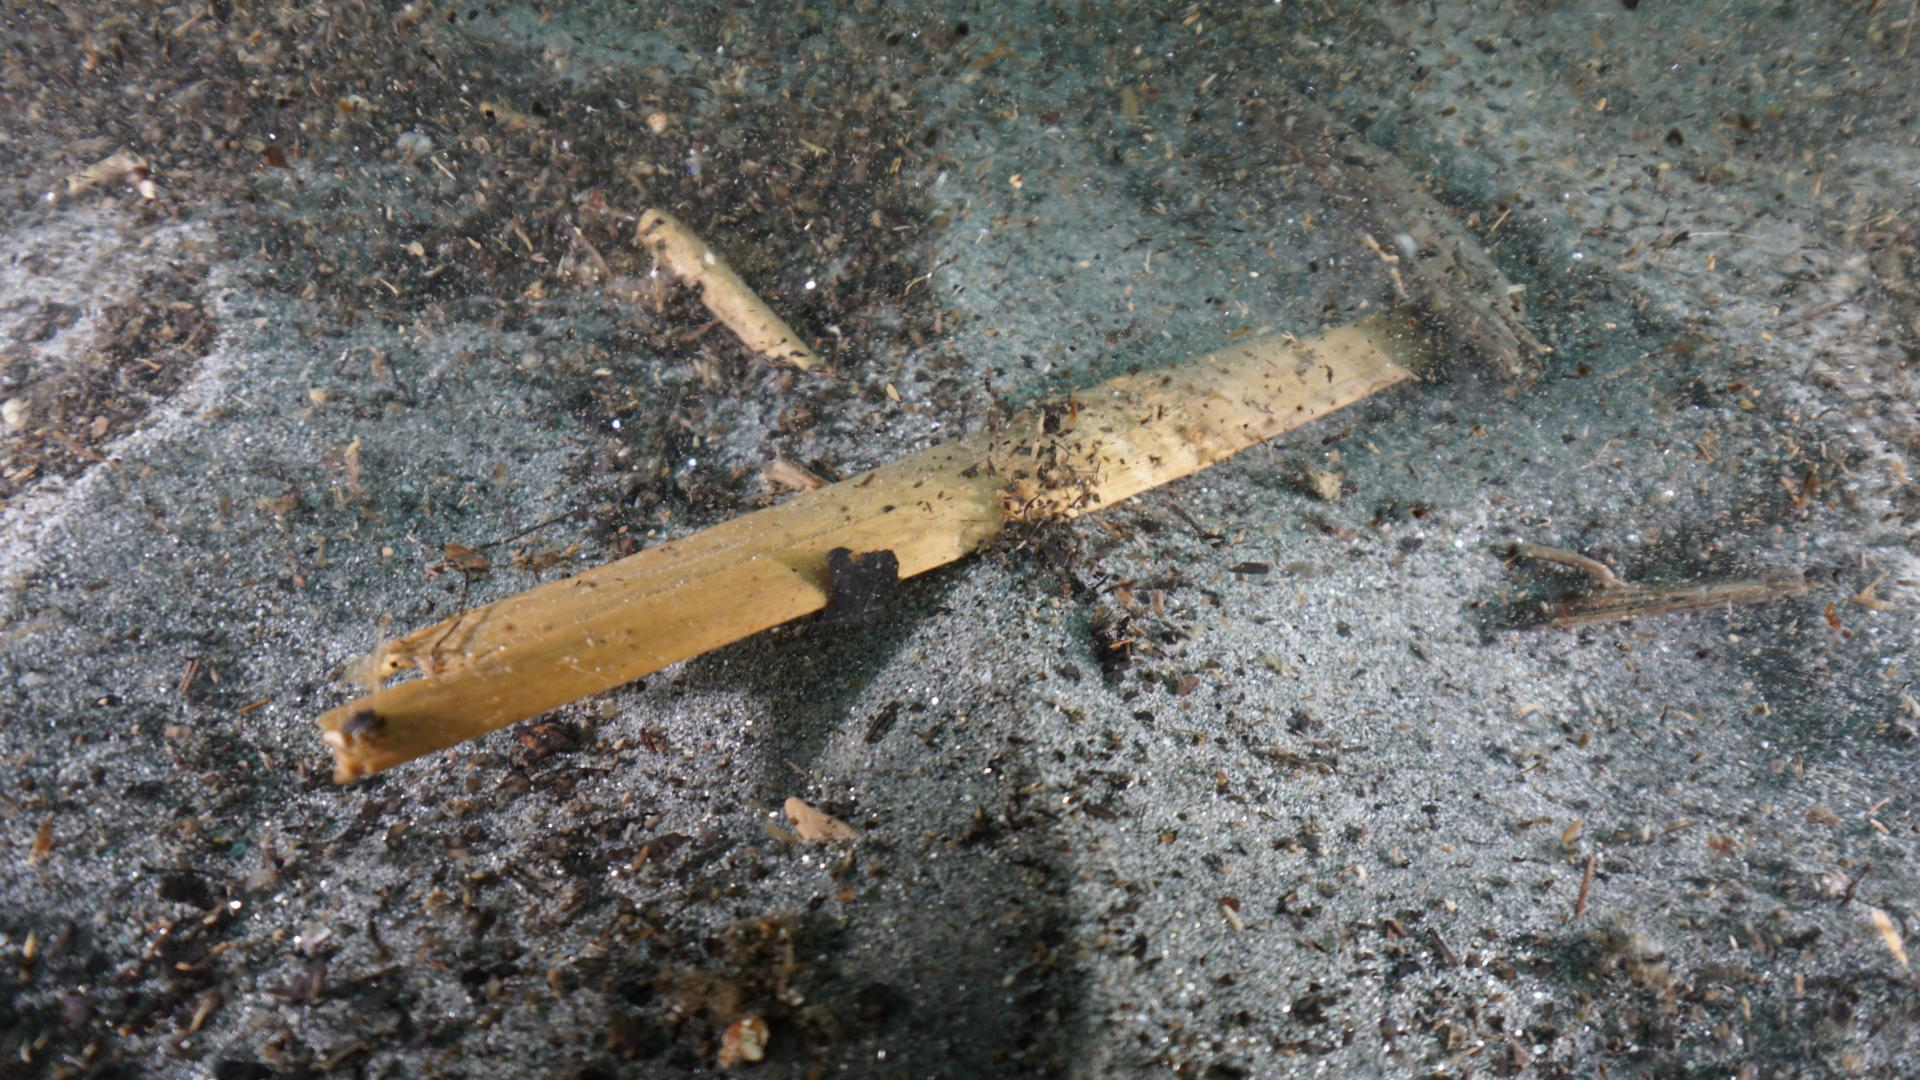wood: (314, 319, 1416, 782)
